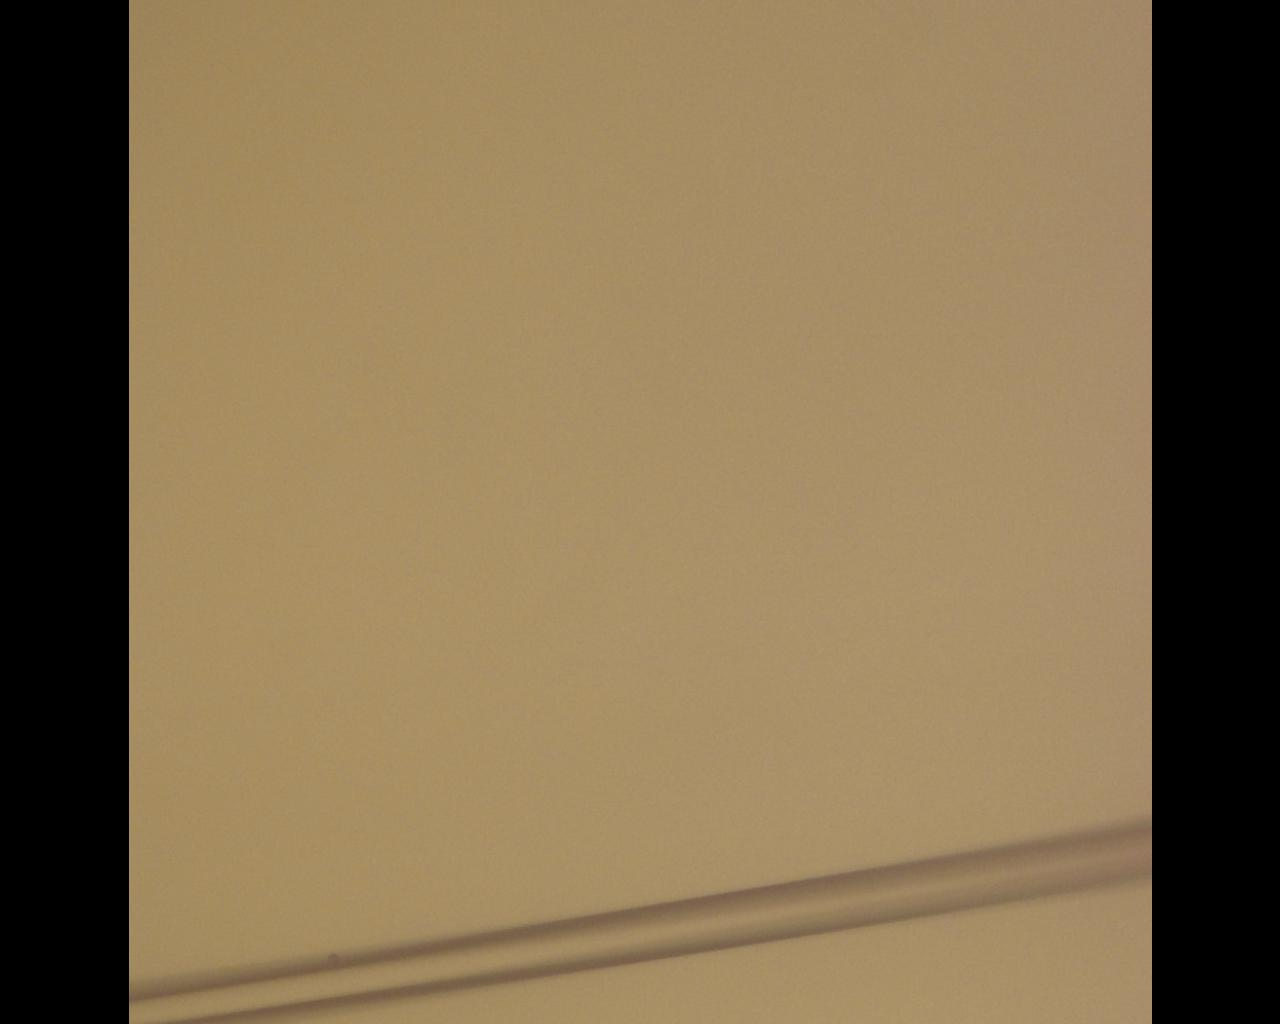fiber: (128, 442, 1152, 561)
